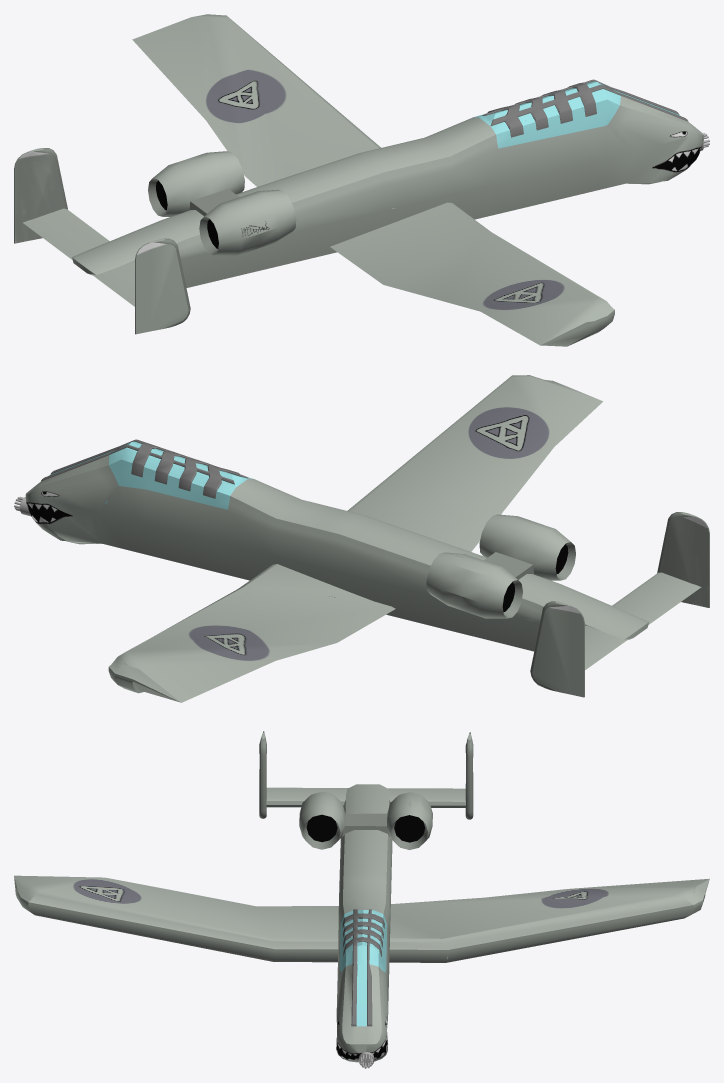
3 views of the same model, one above another, from view 1: azimuth 30°, elevation 25°; view 2: azimuth 150°, elevation 25°; view 3: azimuth 270°, elevation 25° (orthographic). The views are drawn at different scales.
Parts seen in each view (by area): view 1: body, Plane, tail, engigion; view 2: body, Plane, tail, engigion; view 3: Plane, body, engigion, tail.
Boxes of the visible parts, left/top/right/bottom form: body: left=72, top=79, right=703, bottom=287; Plane: left=132, top=14, right=614, bottom=346; tail: left=14, top=148, right=190, bottom=334; engigion: left=148, top=151, right=296, bottom=255; body: left=25, top=439, right=648, bottom=651; Plane: left=108, top=375, right=602, bottom=702; tail: left=530, top=512, right=709, bottom=697; engigion: left=426, top=514, right=575, bottom=618; Plane: left=14, top=875, right=709, bottom=962; body: left=336, top=784, right=392, bottom=1062; engigion: left=299, top=791, right=432, bottom=849; tail: left=259, top=731, right=473, bottom=819.
Size of the model in its own units: 1727 by 300 by 1963.
